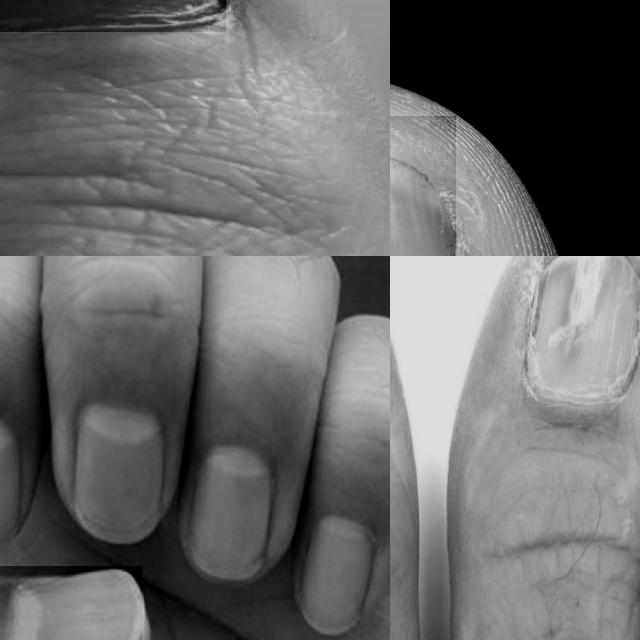diabetes: (524, 256, 640, 404)
sehat: (191, 447, 274, 581), (76, 409, 162, 533), (8, 567, 142, 640), (299, 518, 373, 630)
